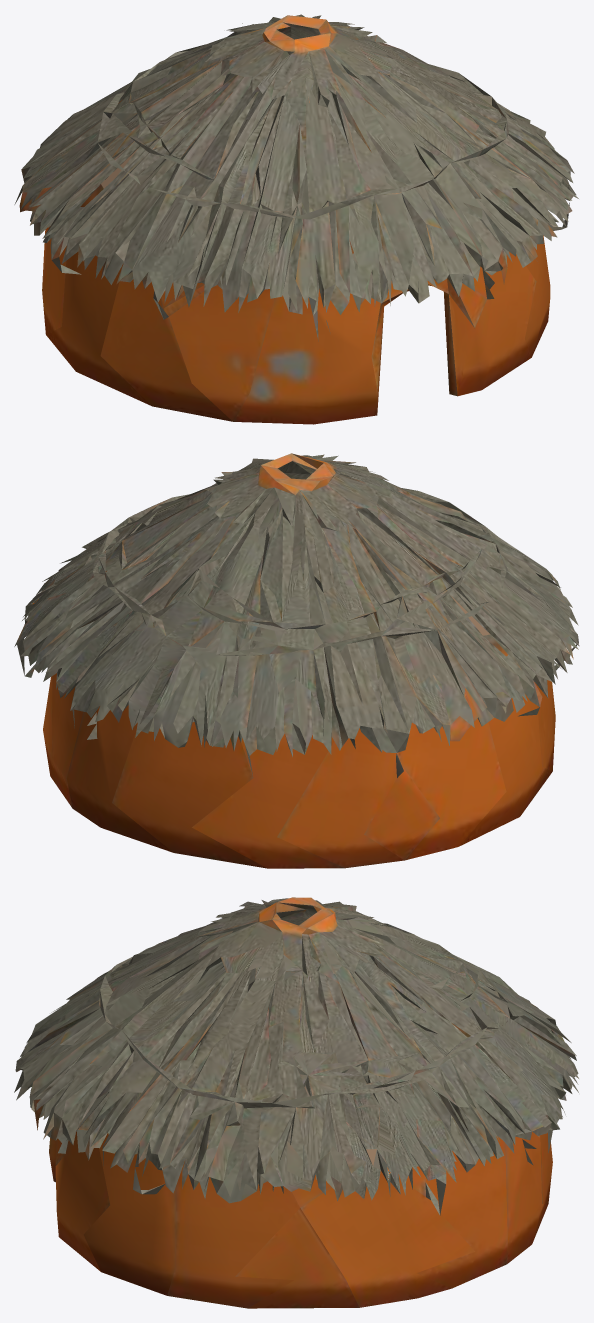
Rendered from Hut_Thatched_Round.glb.
3 renders of one model, top to bottom at view 1: azimuth 30°, elevation 25°; view 2: azimuth 150°, elevation 25°; view 3: azimuth 270°, elevation 25°, orthographic.
Bounding box in the file's own units: 1.85 × 1.07 × 1.86.
Materials: 1 (1 with a texture image).
